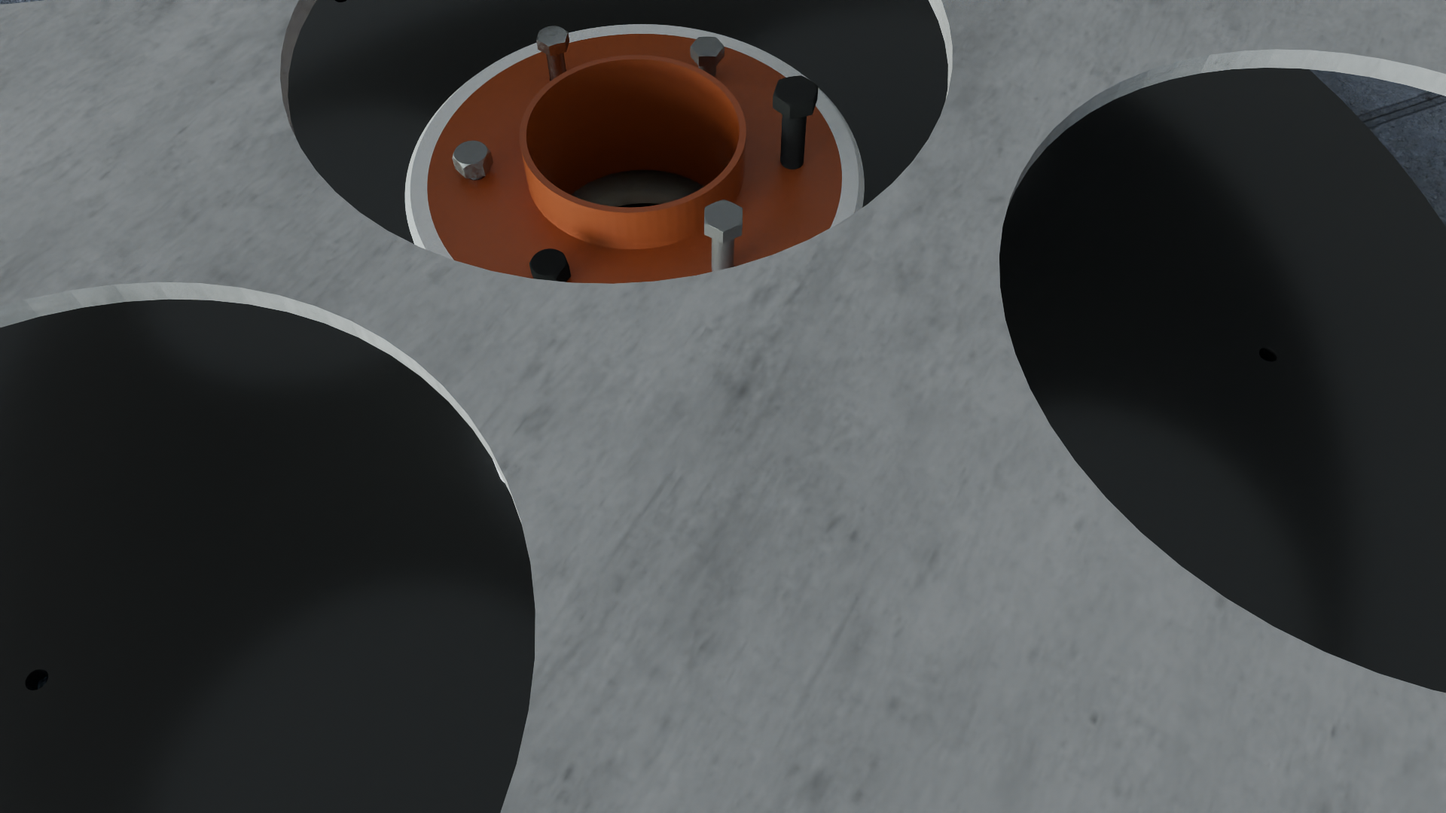bolt: (773, 75, 819, 107), (704, 199, 743, 233), (529, 248, 569, 279), (452, 141, 490, 169), (691, 36, 725, 56), (536, 26, 568, 47)
